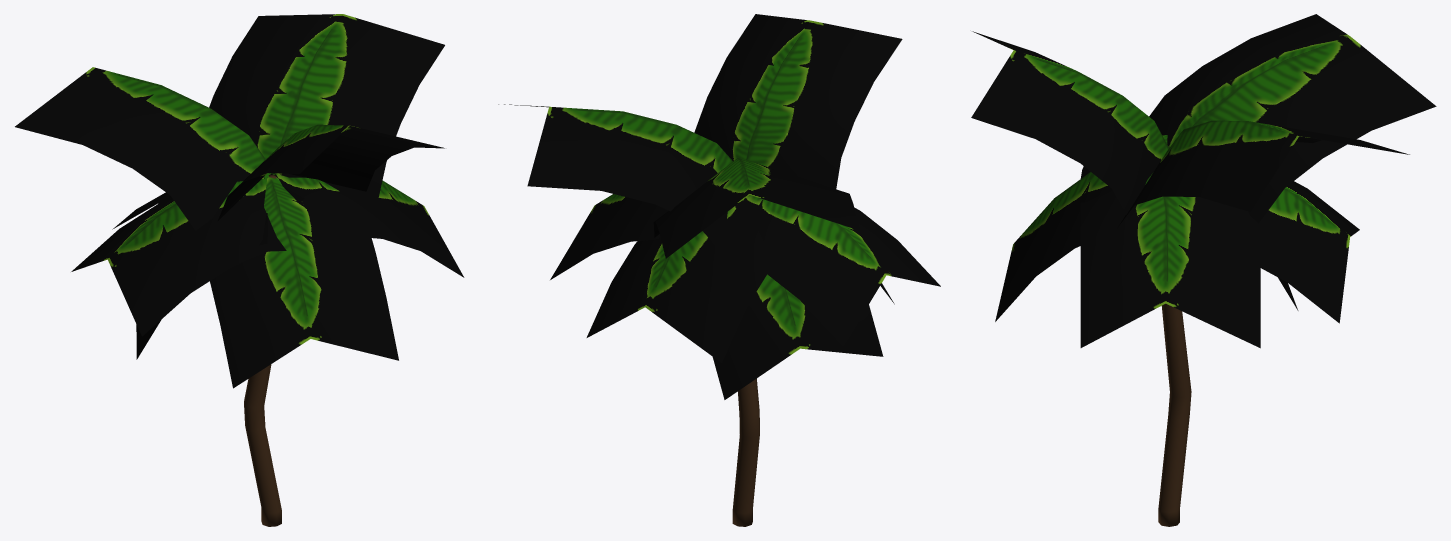
The model's file is palm_LOD0.fbx.
3 views of the same model, side by side, from view 1: azimuth 30°, elevation 25°; view 2: azimuth 150°, elevation 25°; view 3: azimuth 270°, elevation 25° (orthographic). The views are drawn at different scales.
Visible parts, largest first — view 1: palmleaves_LOD0, Palm_LOD0; view 2: palmleaves_LOD0, Palm_LOD0; view 3: palmleaves_LOD0, Palm_LOD0.
Part boxes in pixels (left/top/right/bottom): palmleaves_LOD0: left=15, top=14, right=464, bottom=388; Palm_LOD0: left=244, top=175, right=281, bottom=526; palmleaves_LOD0: left=498, top=14, right=940, bottom=399; Palm_LOD0: left=732, top=378, right=759, bottom=526; palmleaves_LOD0: left=971, top=14, right=1436, bottom=348; Palm_LOD0: left=1158, top=303, right=1191, bottom=526.
Bounding box in the file's own units: 9.25 × 9.94 × 8.86.
